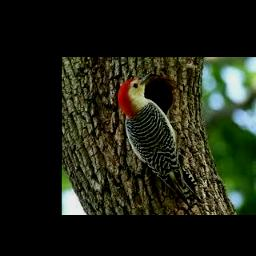Woodpecker: (118, 72, 205, 211)
